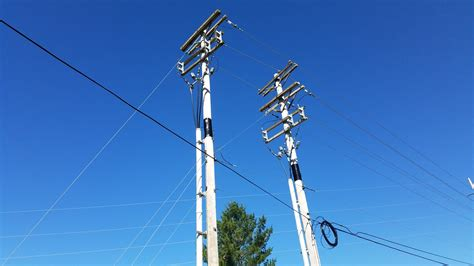pole: (160, 1, 255, 266)
